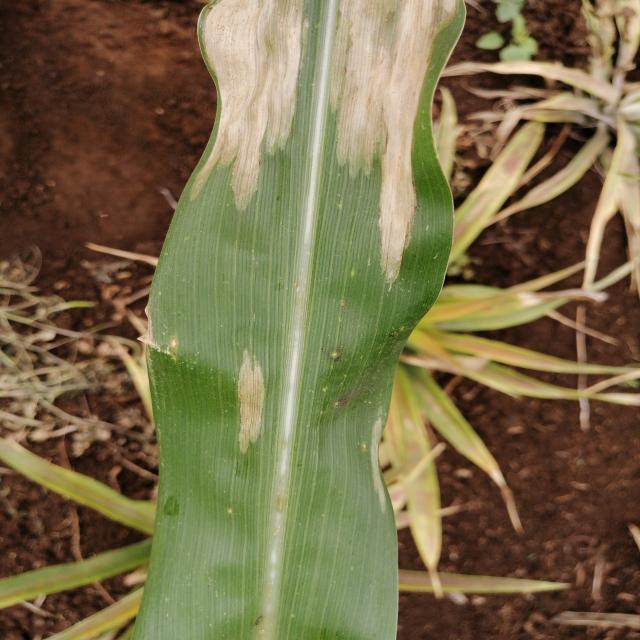Corn_Leaf_Blight: (157, 0, 474, 518)
